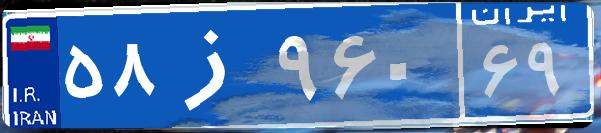0: (385, 28, 445, 110)
5: (57, 26, 110, 107)
6: (330, 28, 385, 110), (475, 38, 525, 113)
8: (110, 28, 158, 105)
9: (273, 28, 330, 110), (525, 38, 570, 115)
ز: (158, 15, 273, 115)
